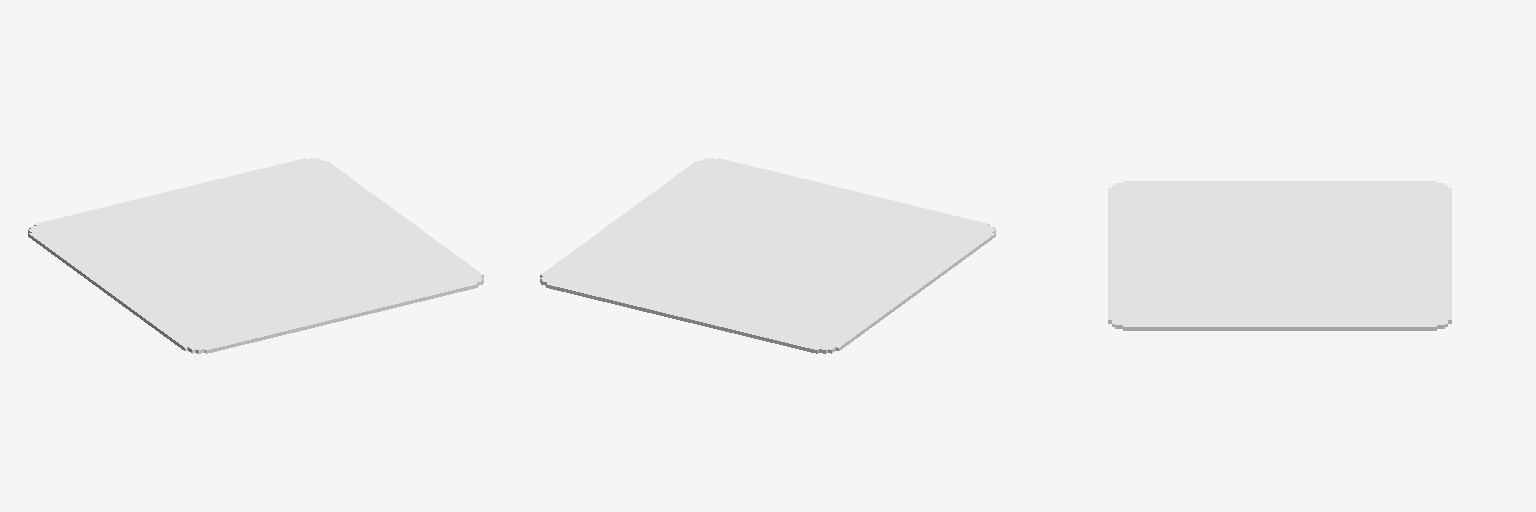
File: ChessBoard.obj
3 renders of one model, left to right at view 1: azimuth 30°, elevation 25°; view 2: azimuth 150°, elevation 25°; view 3: azimuth 270°, elevation 25°, orthographic.
Visible parts, largest first — view 1: object 1; view 2: object 1; view 3: object 1.
Part boxes in pixels (x1,y1,x2,y2): object 1: (28, 158, 483, 353); object 1: (540, 158, 995, 353); object 1: (1108, 181, 1451, 330).
Size of the model in its own units: 8.8 by 0.1 by 8.8.